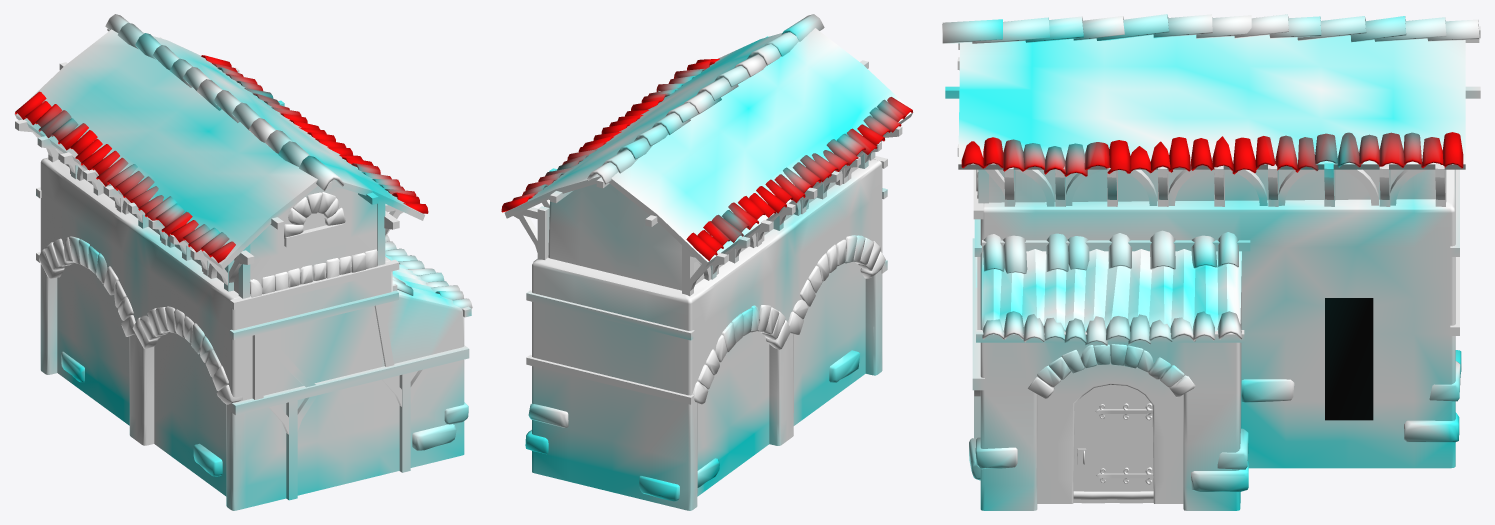
Rendered from SM_House_02.FBX.
3 views of the same model, side by side, from view 1: azimuth 30°, elevation 25°; view 2: azimuth 150°, elevation 25°; view 3: azimuth 270°, elevation 25° (orthographic). The views are drawn at different scales.
Visible parts, largest first — view 1: SM_House_02_LOD0; view 2: SM_House_02_LOD0; view 3: SM_House_02_LOD0.
Boxes of the visible parts, <box> form: SM_House_02_LOD0: <box>14,14,472,510</box>; SM_House_02_LOD0: <box>501,14,913,510</box>; SM_House_02_LOD0: <box>942,14,1480,510</box>.
Bounding box in the file's own units: 885 × 1206 × 1012.
